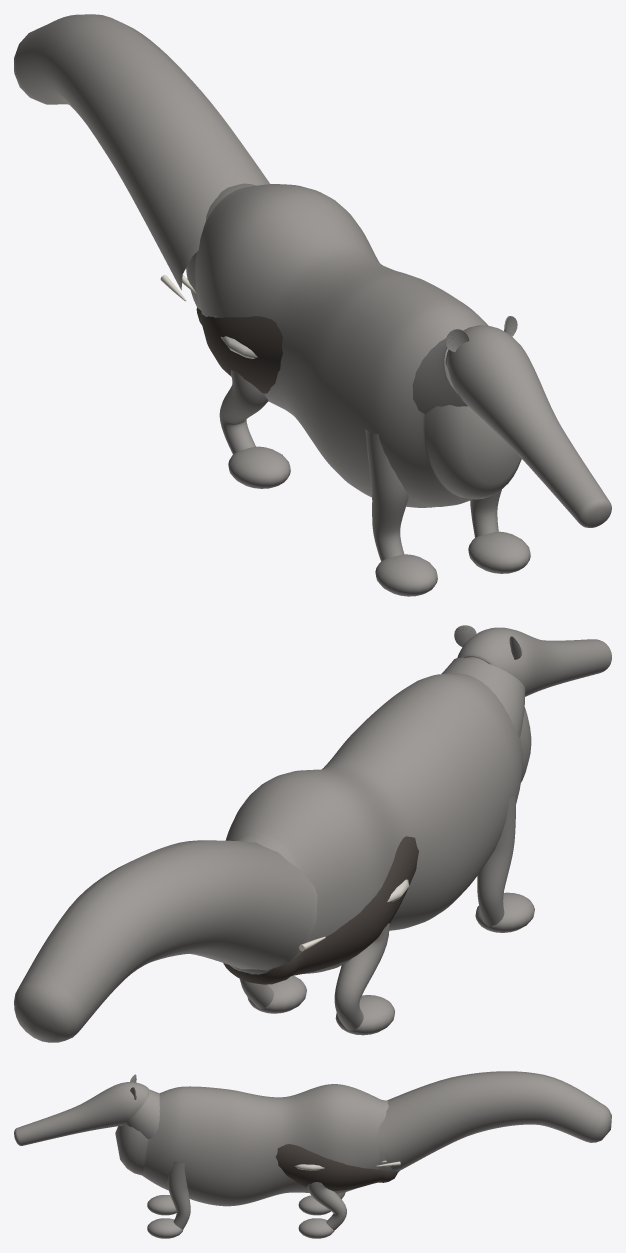
File: other-giant-anteater.glb
3 renders of one model, top to bottom at view 1: azimuth 30°, elevation 25°; view 2: azimuth 150°, elevation 25°; view 3: azimuth 270°, elevation 25°, orthographic. The views are drawn at different scales.
Parts seen in each view (by area): view 1: giant-anteater; view 2: giant-anteater; view 3: giant-anteater.
Boxes of the visible parts, x1,y1,x2,y2 form: giant-anteater: (14, 14, 611, 596); giant-anteater: (14, 625, 611, 1042); giant-anteater: (14, 1071, 611, 1238).
Size of the model in its own units: 13572 by 23475 by 83601.
6 materials, 3 textured.
